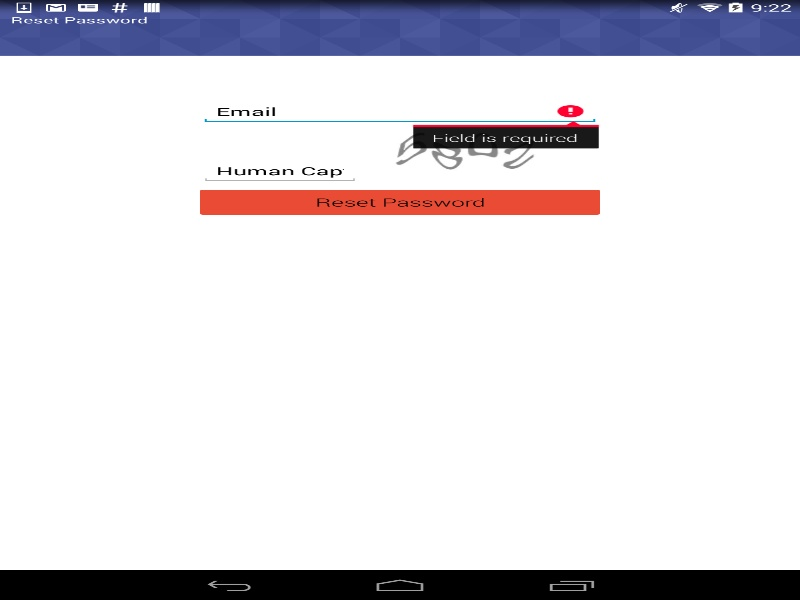Button: (200, 189, 600, 214)
Input: (200, 99, 600, 124), (200, 158, 360, 183)
